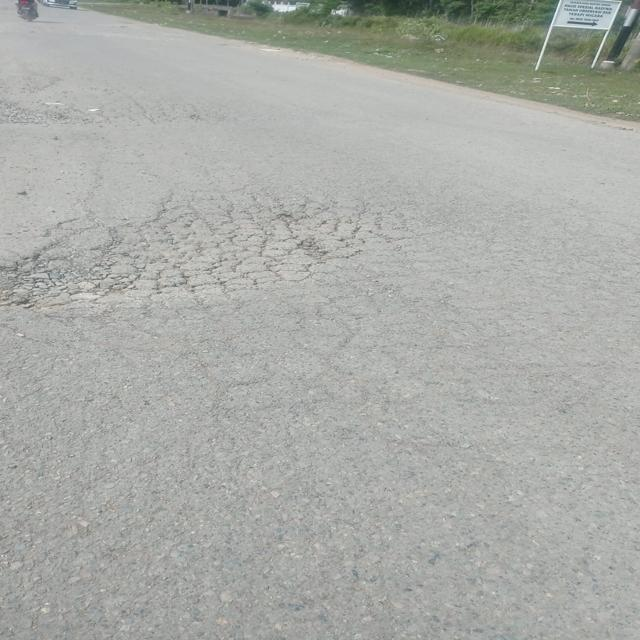Retak Buaya: (6, 190, 390, 310)
